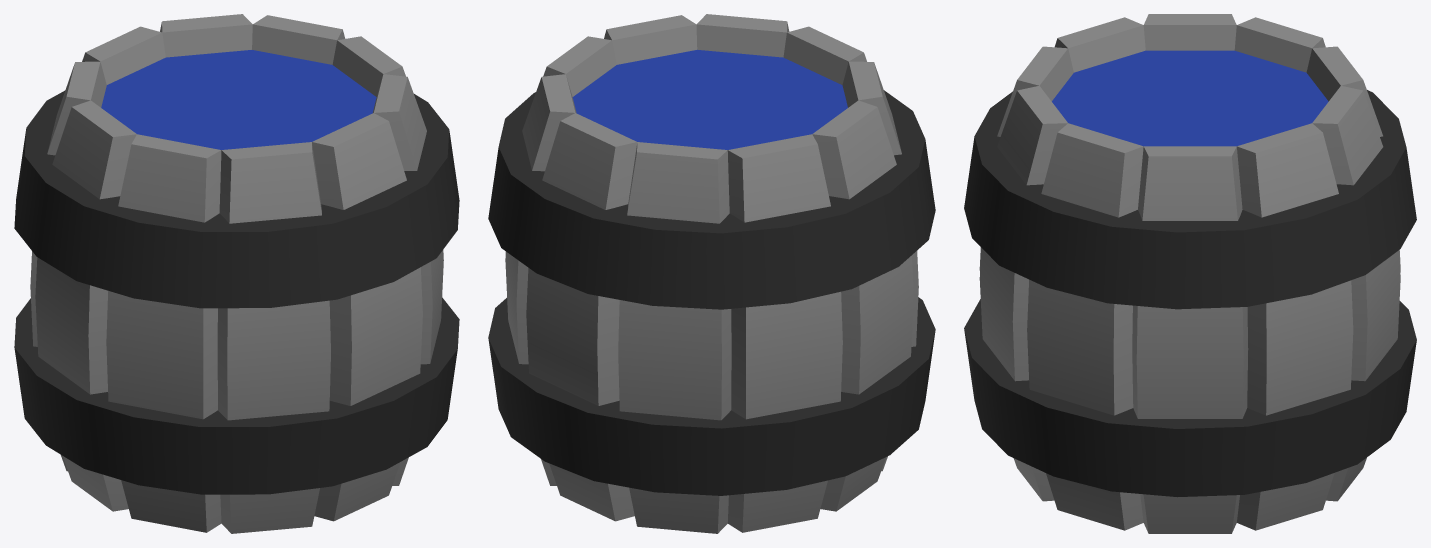
The model's file is Barrel_02_mm.fbx.
The picture shows the model from 3 angles, left to right: view 1: azimuth 30°, elevation 25°; view 2: azimuth 150°, elevation 25°; view 3: azimuth 270°, elevation 25°; orthographic projection.
Visible parts, largest first — view 1: Barrel_02; view 2: Barrel_02; view 3: Barrel_02.
Boxes of the visible parts, x1,y1,x2,y2 form: Barrel_02: (14, 14, 459, 533); Barrel_02: (488, 14, 935, 533); Barrel_02: (964, 14, 1416, 533).
Bounding box in the file's own units: 87.19 × 80.6 × 87.63.
